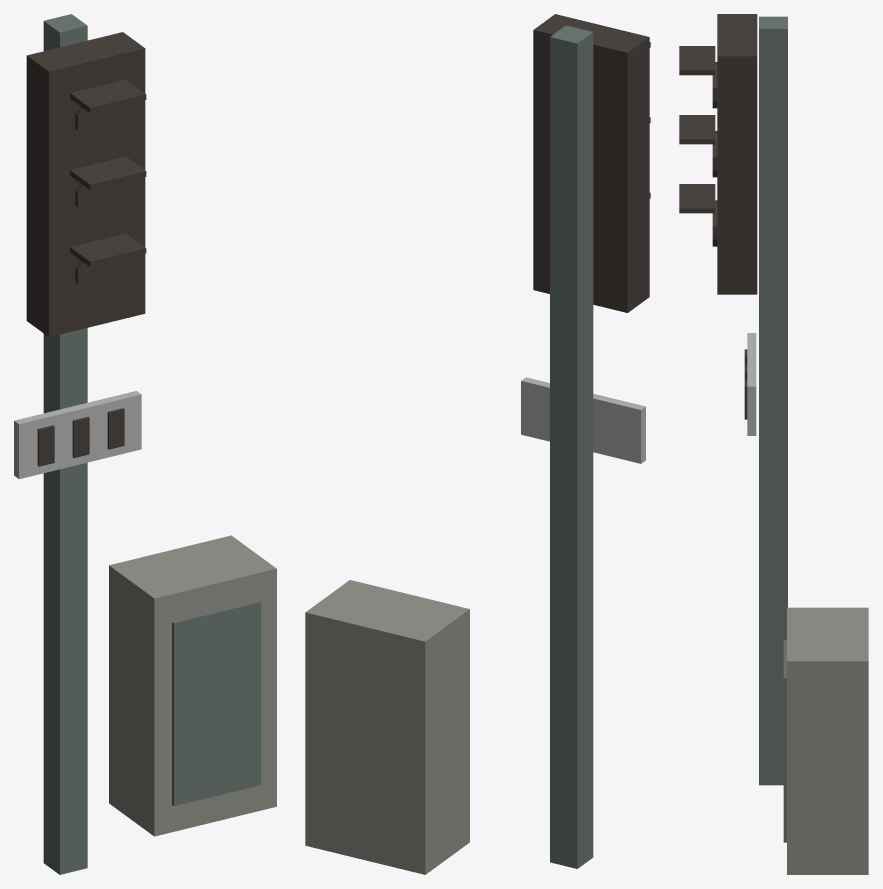
File: SM_senal_via_v0_LOD0.fbx
3 views of the same model, side by side, from view 1: azimuth 30°, elevation 25°; view 2: azimuth 150°, elevation 25°; view 3: azimuth 270°, elevation 25° (orthographic). The views are drawn at different scales.
Parts seen in each view (by area): view 1: SM_bloques.senal_via_v0_LOD0; view 2: SM_bloques.senal_via_v0_LOD0; view 3: SM_bloques.senal_via_v0_LOD0.
Part boxes in pixels (box(x1,y1,x2,y2)): SM_bloques.senal_via_v0_LOD0: box(14, 14, 276, 874); SM_bloques.senal_via_v0_LOD0: box(305, 14, 650, 874); SM_bloques.senal_via_v0_LOD0: box(679, 14, 868, 874).
Size of the model in its own units: 1.6 by 4.6 by 1.04.
